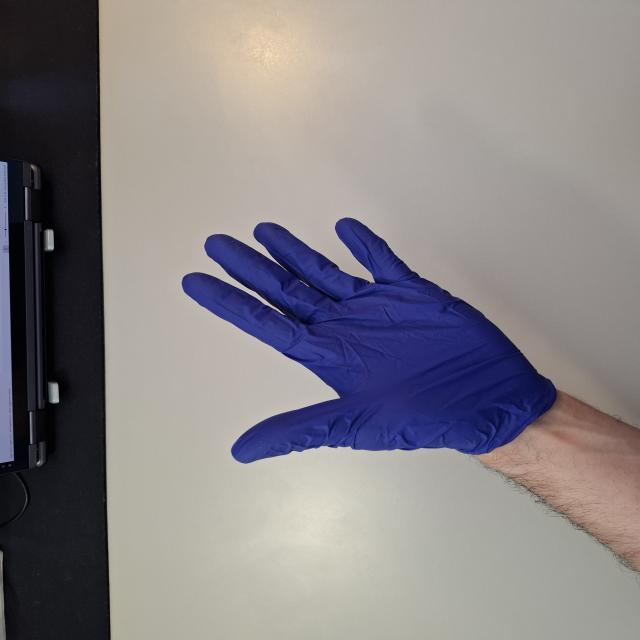glove_on: (178, 214, 566, 466)
